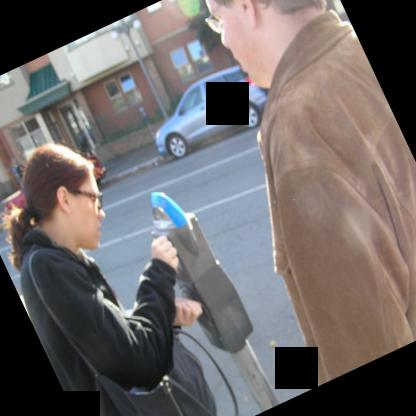handbag: (28, 247, 239, 416)
